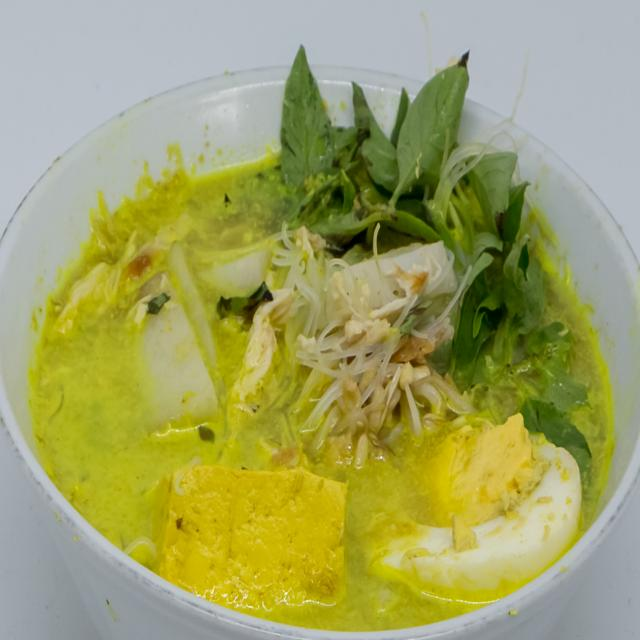Laksa-Bogor: (24, 36, 622, 628)
